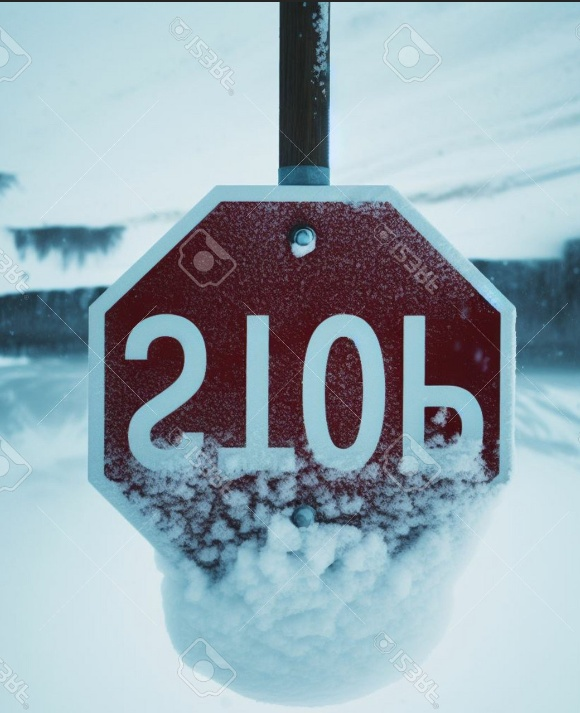Stop: (57, 157, 529, 630)
